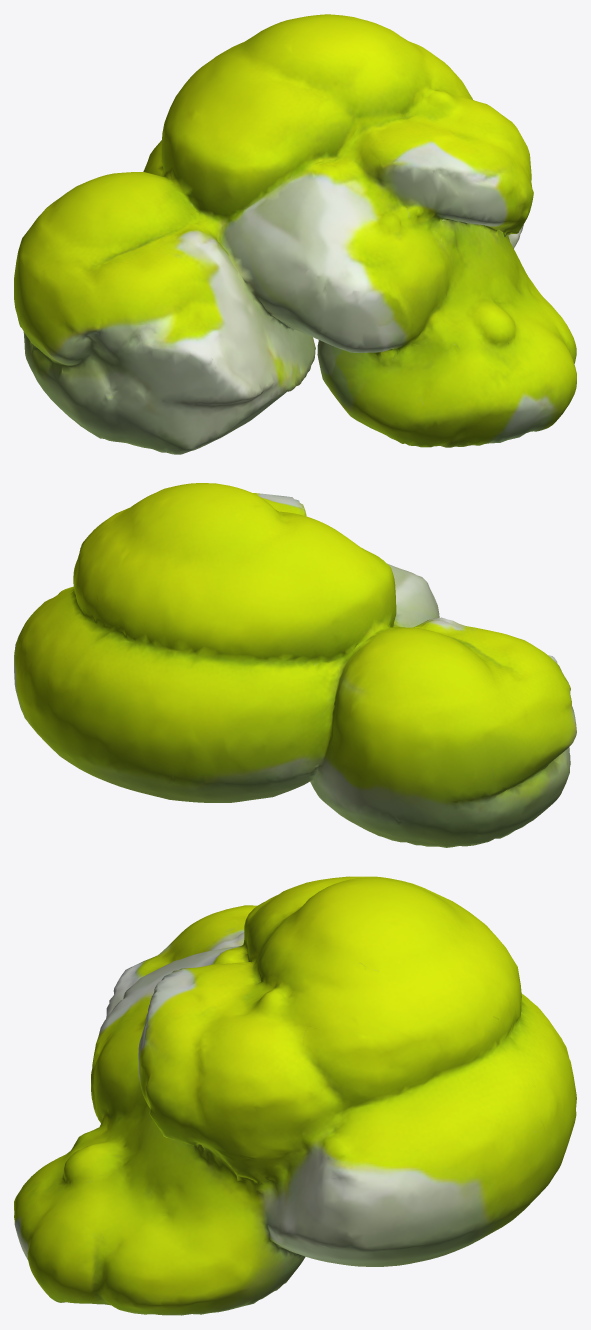
Rendered from rock.glb.
3 views of the same model, one above another, from view 1: azimuth 30°, elevation 25°; view 2: azimuth 150°, elevation 25°; view 3: azimuth 270°, elevation 25° (orthographic). The views are drawn at different scales.
Parts seen in each view (by area): view 1: model; view 2: model; view 3: model.
Boxes of the visible parts, x1,y1,x2,y2 form: model: (14, 14, 576, 454); model: (14, 483, 576, 847); model: (14, 876, 576, 1315).
Size of the model in its own units: 1.9 by 1.14 by 1.61.
Materials: 1 (1 with a texture image).
